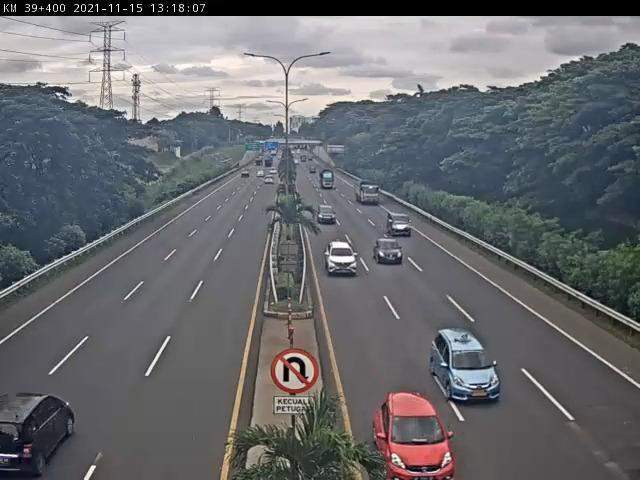car: (371, 390, 457, 480), (2, 392, 77, 476), (431, 327, 504, 403), (323, 240, 361, 278), (374, 237, 405, 266), (388, 212, 415, 239), (316, 204, 338, 226)
